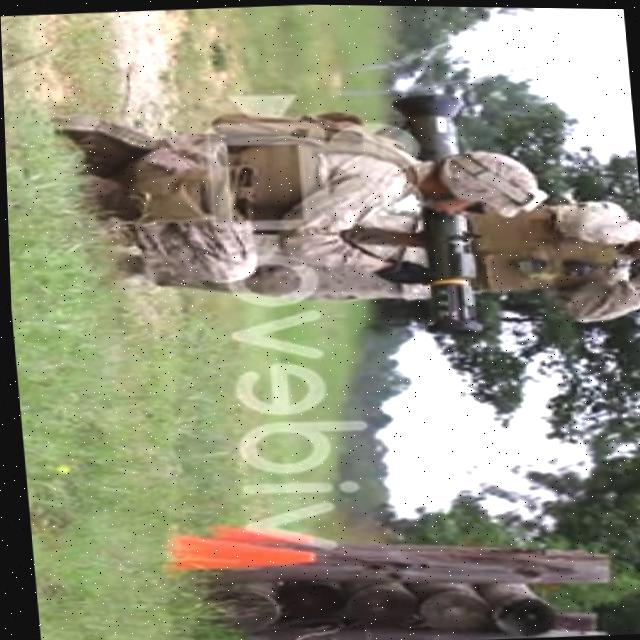rocket: (387, 87, 484, 337)
